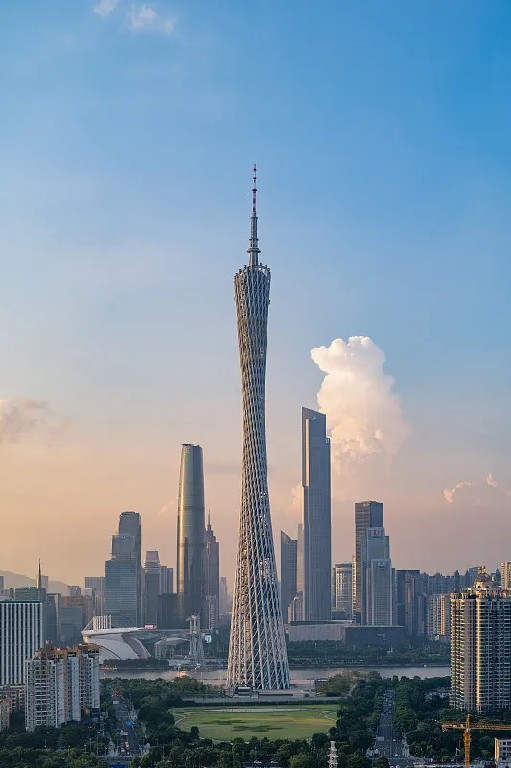Canton: (225, 165, 293, 692)
